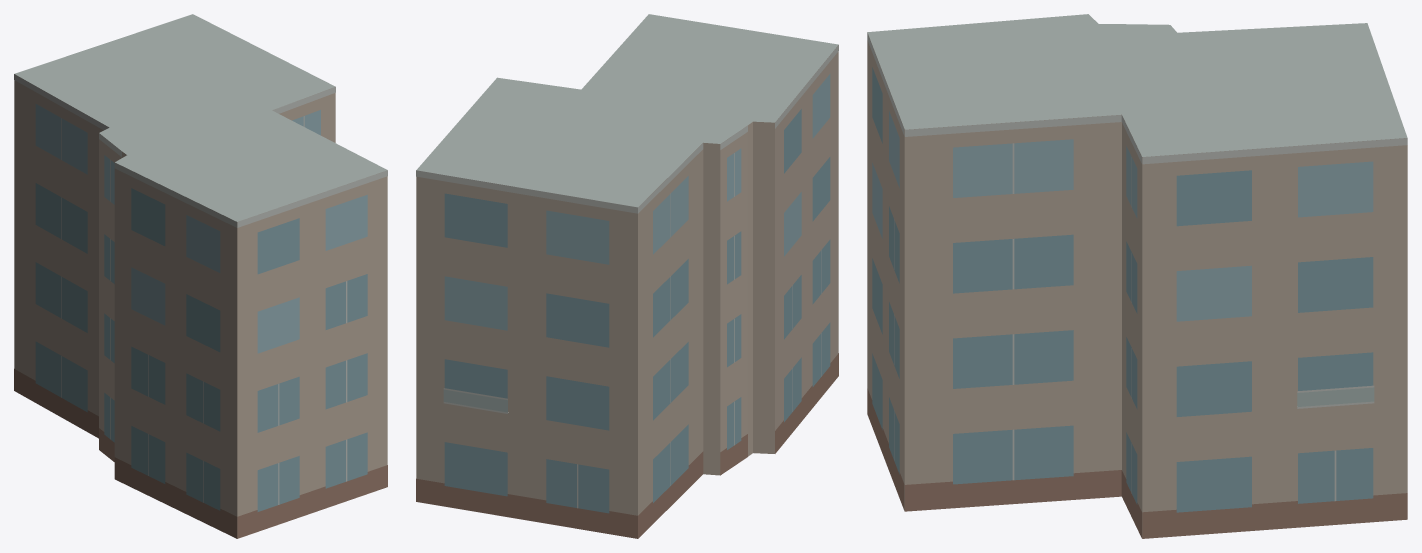
The model's file is survey-upis-33005587.glb.
The picture shows the model from 3 angles, left to right: view 1: azimuth 30°, elevation 25°; view 2: azimuth 150°, elevation 25°; view 3: azimuth 270°, elevation 25°; orthographic projection. The views are drawn at different scales.
Parts seen in each view (by area): view 1: survey-upis-33005587.tmp; view 2: survey-upis-33005587.tmp; view 3: survey-upis-33005587.tmp.
Part boxes in pixels (box(x1,y1,x2,y2)): survey-upis-33005587.tmp: box(14, 14, 387, 538); survey-upis-33005587.tmp: box(416, 14, 838, 538); survey-upis-33005587.tmp: box(867, 14, 1407, 538).
Bounding box in the file's own units: 10.3 × 12.8 × 16.42.
